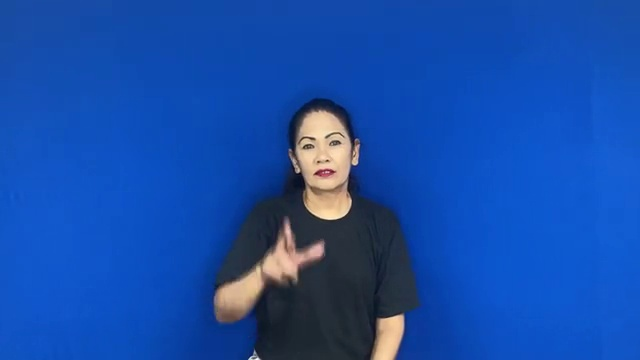chicken: (243, 210, 333, 296)
